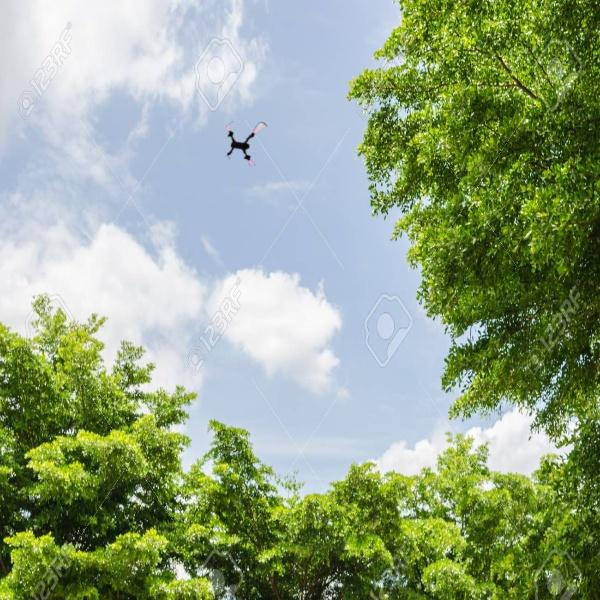drone: (220, 115, 276, 171)
